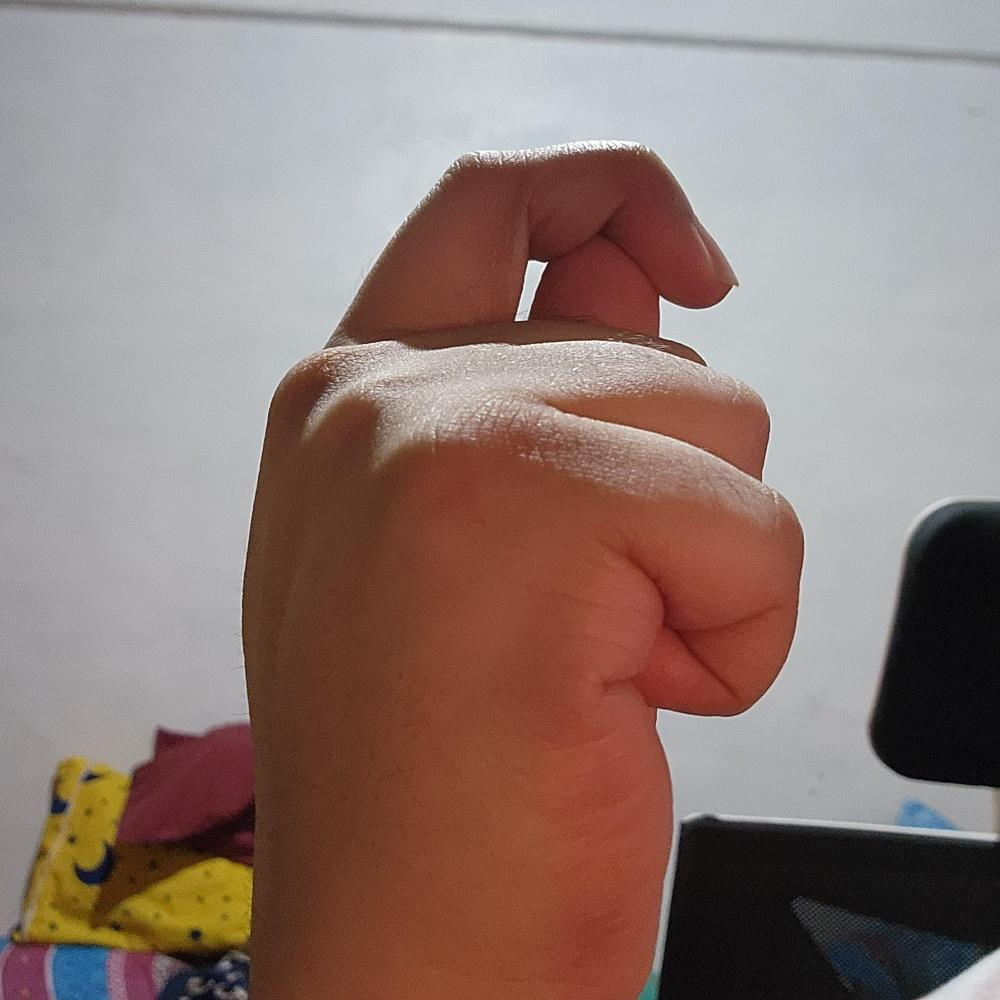t: (239, 136, 803, 999)
